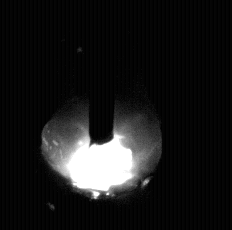arame: (89, 0, 115, 145)
poca: (41, 0, 162, 230)
